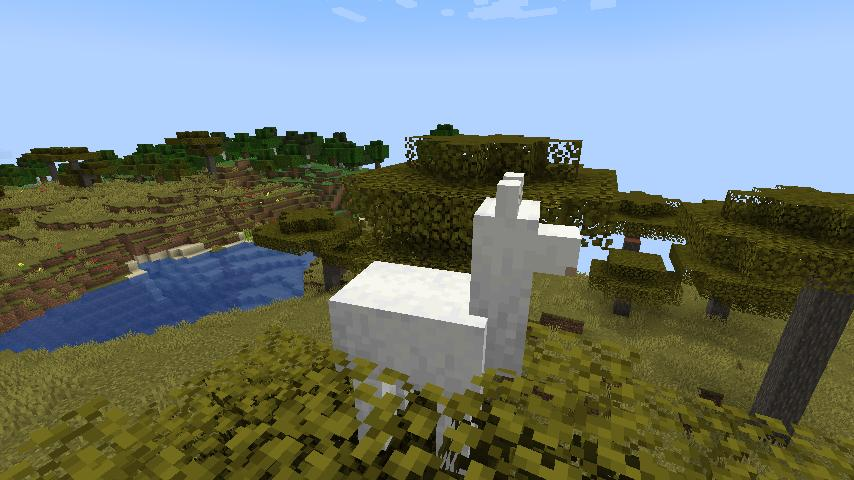llama: (317, 168, 587, 472)
